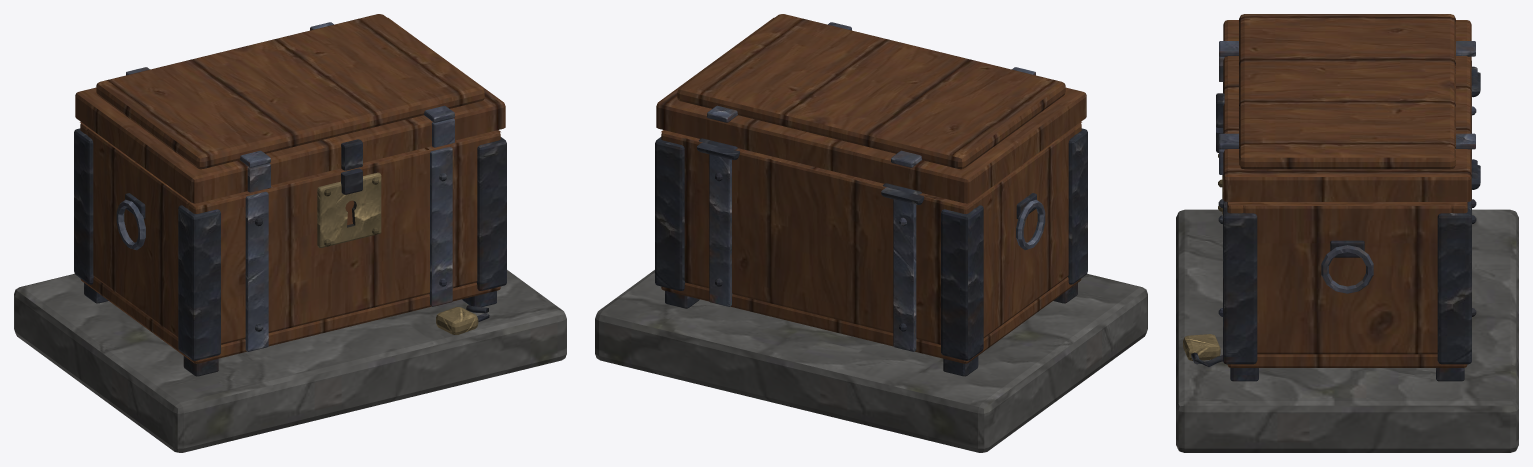
The model's file is bv_strongbox.glb.
The picture shows the model from 3 angles, left to right: view 1: azimuth 30°, elevation 25°; view 2: azimuth 150°, elevation 25°; view 3: azimuth 270°, elevation 25°; orthographic projection. The views are drawn at different scales.
Parts seen in each view (by area): view 1: model, lid; view 2: model, lid; view 3: model, lid.
Boxes of the visible parts, box(x1,y1,x2,y2) form: model: box(14, 122, 566, 452); lid: box(75, 14, 505, 203); model: box(595, 122, 1147, 452); lid: box(656, 14, 1086, 203); model: box(1176, 61, 1518, 452); lid: box(1216, 14, 1477, 201).
Size of the model in its own units: 0.82 by 0.527 by 0.6.
Materials: 7 (6 with a texture image).
